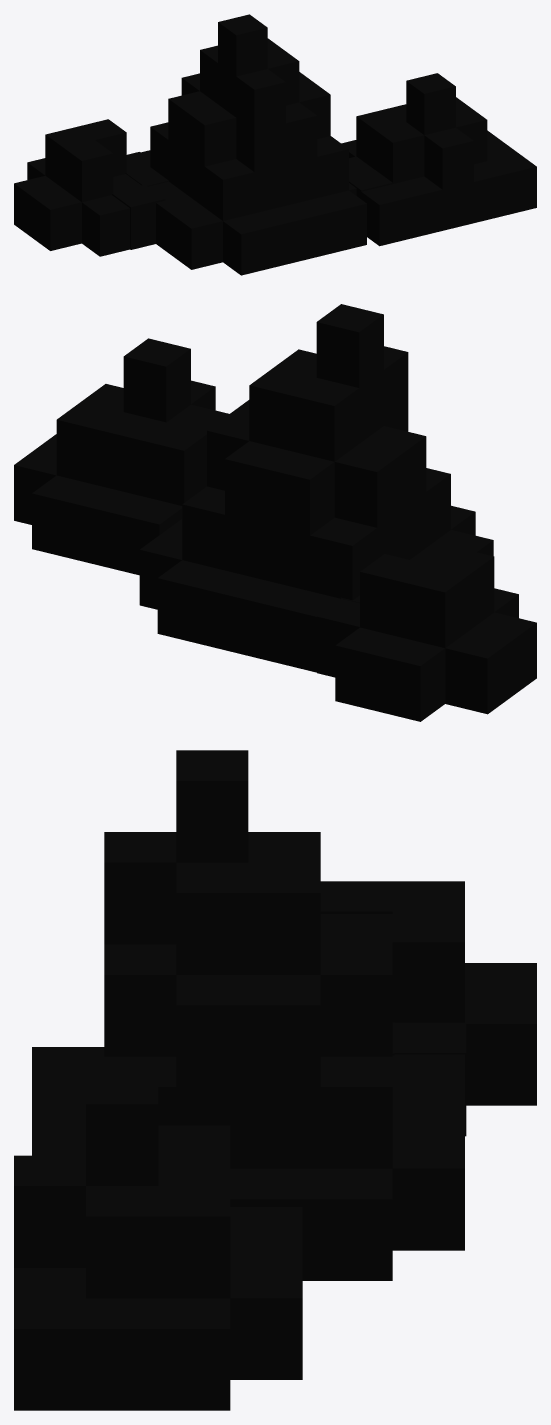
File: BasaltRocks.obj
3 renders of one model, top to bottom at view 1: azimuth 30°, elevation 25°; view 2: azimuth 150°, elevation 25°; view 3: azimuth 270°, elevation 25°, orthographic. The views are drawn at different scales.
Parts seen in each view (by area): view 1: BasaltRocks; view 2: BasaltRocks; view 3: BasaltRocks.
Part boxes in pixels (<box>): BasaltRocks: <box>14,14,536,275</box>; BasaltRocks: <box>14,304,536,721</box>; BasaltRocks: <box>14,750,536,1410</box>.
Size of the model in its own units: 26 by 12.5 by 14.5.
